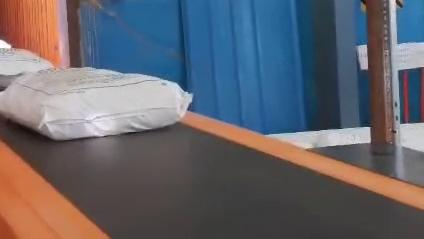box: (0, 67, 192, 140), (0, 49, 53, 89), (0, 40, 10, 48)
